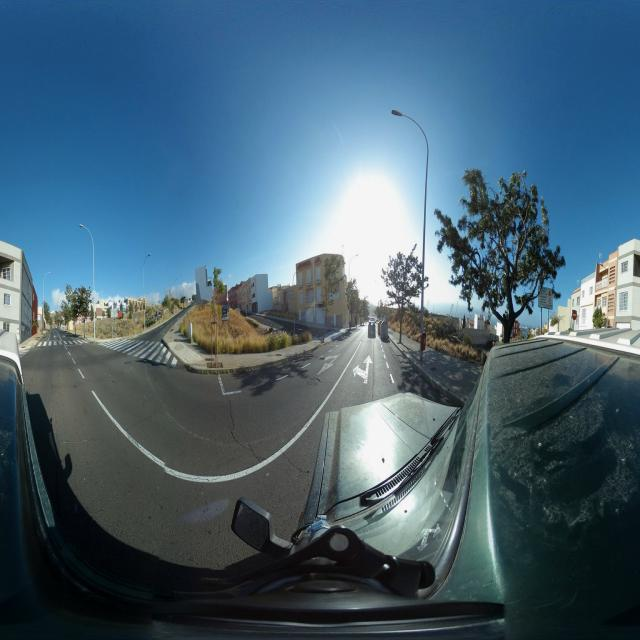car: (367, 317, 377, 338)
